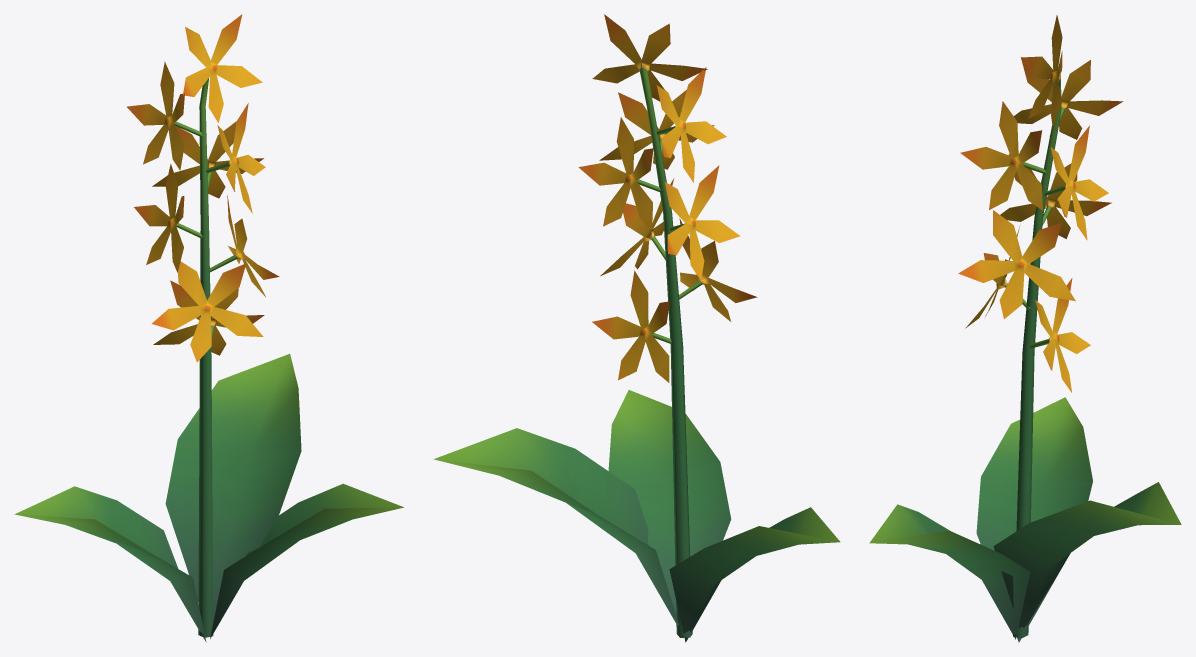
The model's file is flower_022_base_material_0.fbx.
3 views of the same model, side by side, from view 1: azimuth 30°, elevation 25°; view 2: azimuth 150°, elevation 25°; view 3: azimuth 270°, elevation 25° (orthographic). The views are drawn at different scales.
Visible parts, largest first — view 1: flower_022_base_material_0; view 2: flower_022_base_material_0; view 3: flower_022_base_material_0.
Boxes of the visible parts, box(x1,y1,x2,y2) form: flower_022_base_material_0: box(14, 14, 404, 642); flower_022_base_material_0: box(434, 14, 840, 642); flower_022_base_material_0: box(869, 15, 1181, 642).
Size of the model in its own units: 2.08 by 1.63 by 3.61.
Materials: 1 (1 with a texture image).
